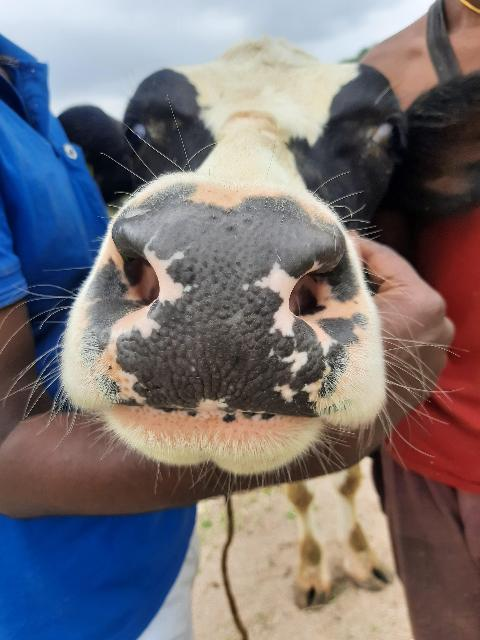Muzzle: (116, 210, 334, 408)
